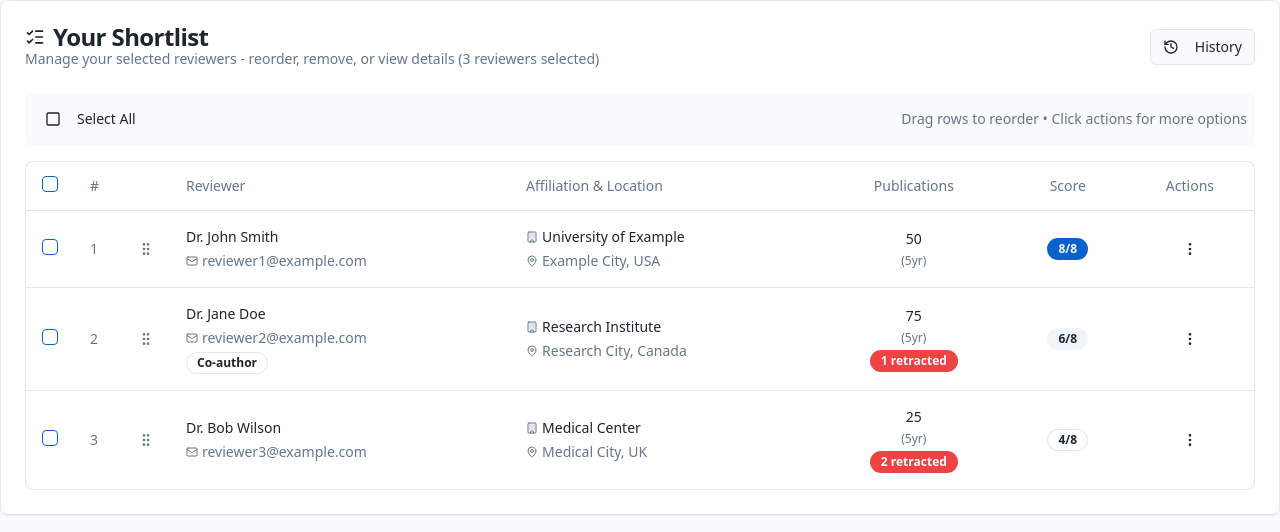
it: ShortlistManager › handles select all functionality
Click select all button
Click the button "Select All": (90, 119) [33,101,148,137]
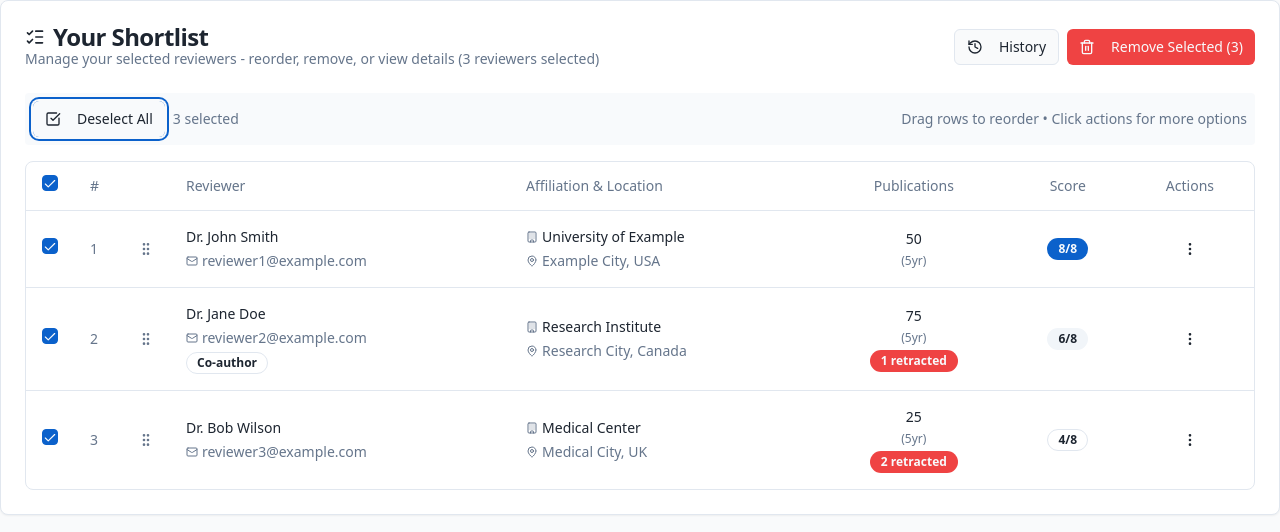
Now the button "Remove Selected (3)" is shown, box [1067,29,1255,65]
Click deselect all
Click the button "Deselect All": (99, 119) [33,101,165,137]
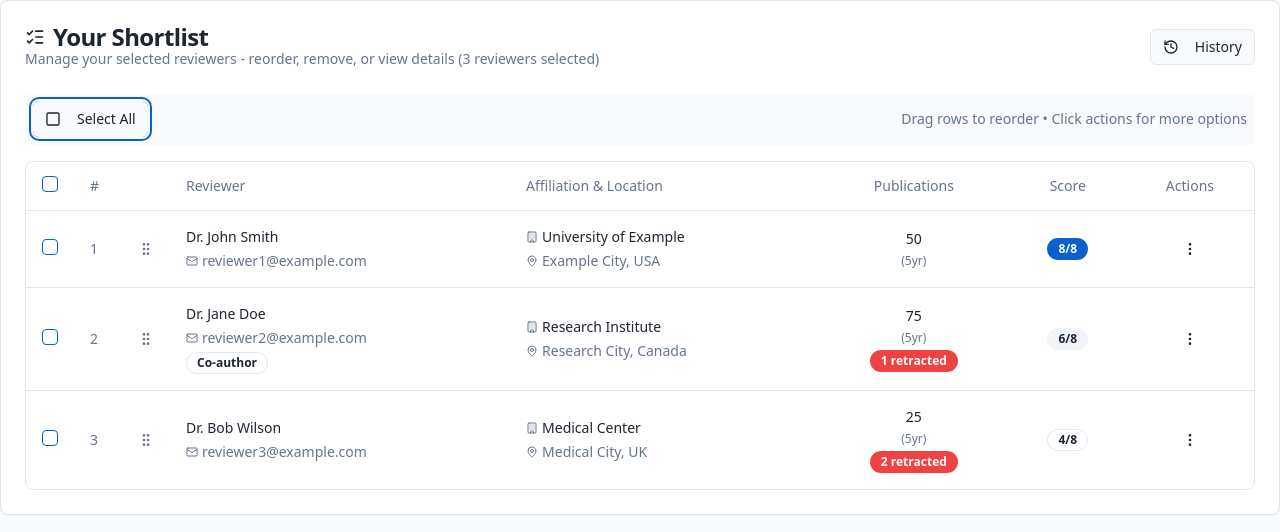
Now the button "Remove Selected" is gone
